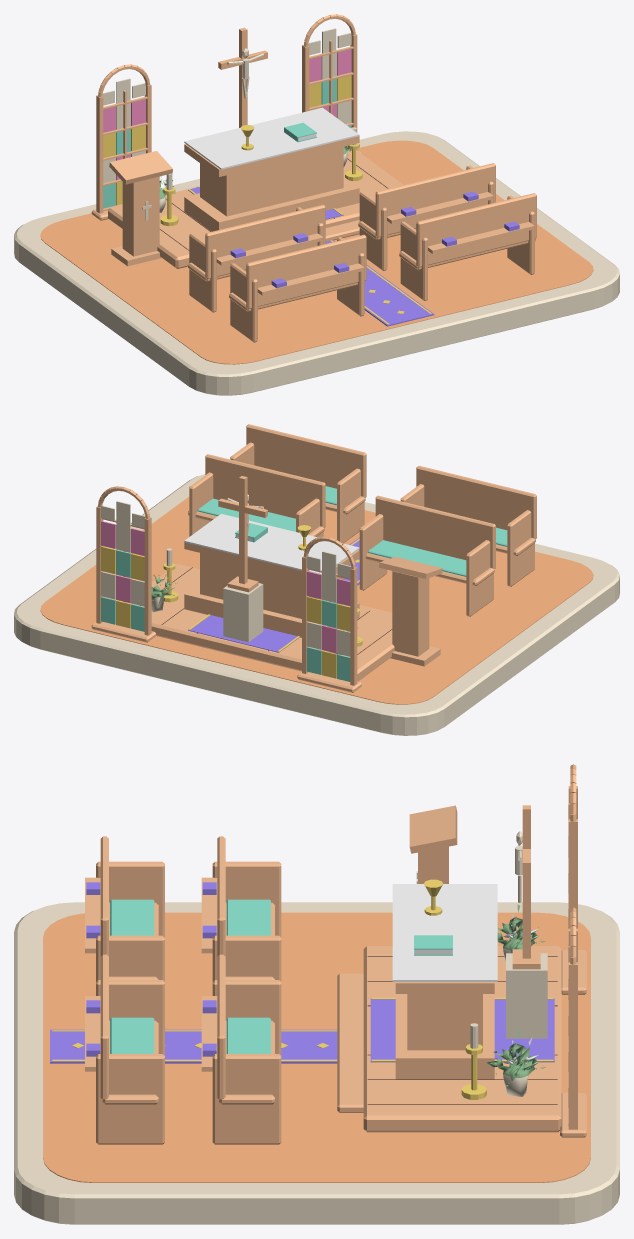
File: room.fbx
3 views of the same model, one above another, from view 1: azimuth 30°, elevation 25°; view 2: azimuth 150°, elevation 25°; view 3: azimuth 270°, elevation 25° (orthographic). The views are drawn at different scales.
Visible parts, largest first — view 1: COM-02 Floor Surface, COM-01 Rounded Base Direct, Altar, Altar cloth, Back.002, Back.003, Sanctuary platform, Back.001, Back, Base, Body, Aisle runner (+17 smaller); view 2: COM-01 Rounded Base Direct, COM-02 Floor Surface, Sanctuary platform, Back, Back.002, Back.003, Back.001, Altar cloth, Altar, Body, Display plinth, Base (+23 smaller); view 3: COM-02 Floor Surface, COM-01 Rounded Base Direct, Sanctuary platform, Altar cloth, End panel.002, End panel.006, Aisle runner, Base, Altar, Entry step, Stage carpet, Display plinth (+30 smaller).
Part boxes in pixels (left/top/right/bottom): COM-02 Floor Surface: left=40, top=140, right=593, bottom=364; COM-01 Rounded Base Direct: left=14, top=131, right=619, bottom=395; Altar: left=200, top=147, right=343, bottom=216; Altar cloth: left=184, top=107, right=359, bottom=169; Back.002: left=246, top=234, right=366, bottom=308; Back.003: left=416, top=193, right=536, bottom=267; Sanctuary platform: left=108, top=149, right=403, bottom=268; Back.001: left=375, top=163, right=495, bottom=237; Back: left=205, top=204, right=325, bottom=279; Base: left=184, top=177, right=359, bottom=231; Body: left=122, top=176, right=159, bottom=256; Aisle runner: left=325, top=240, right=434, bottom=326; COM-01 Rounded Base Direct: left=14, top=474, right=619, bottom=735; COM-02 Floor Surface: left=40, top=497, right=593, bottom=704; Sanctuary platform: left=127, top=563, right=394, bottom=681; Back: left=375, top=495, right=495, bottom=569; Back.002: left=416, top=465, right=536, bottom=539; Back.003: left=246, top=424, right=366, bottom=497; Back.001: left=205, top=454, right=325, bottom=527; Altar cloth: left=184, top=514, right=359, bottom=574; Altar: left=200, top=553, right=343, bottom=618; Body: left=392, top=571, right=429, bottom=656; Display plinth: left=223, top=583, right=263, bottom=642; Base: left=184, top=583, right=359, bottom=637; COM-02 Floor Surface: left=43, top=912, right=590, bottom=1182; COM-01 Rounded Base Direct: left=14, top=902, right=619, bottom=1224; Sanctuary platform: left=363, top=946, right=561, bottom=1132; Altar cloth: left=392, top=884, right=497, bottom=981; End panel.002: left=212, top=1054, right=281, bottom=1144; End panel.006: left=96, top=1054, right=164, bottom=1144; Aisle runner: left=50, top=1029, right=337, bottom=1063; Base: left=395, top=994, right=494, bottom=1079; Altar: left=407, top=994, right=482, bottom=1050; Entry step: left=337, top=973, right=363, bottom=1112; Stage carpet: left=370, top=998, right=554, bottom=1062; Display plinth: left=506, top=953, right=547, bottom=1038.
Bounding box in the file's own units: 600 × 257 × 520.
